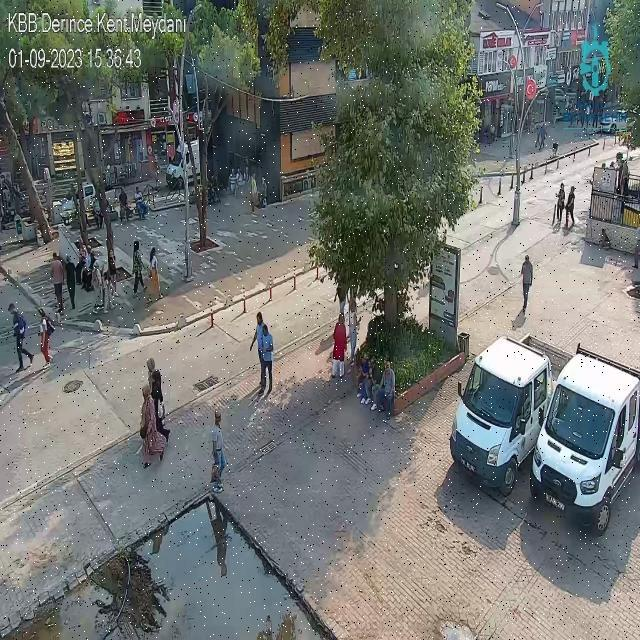Truck: (524, 343, 640, 533), (453, 331, 575, 497)
